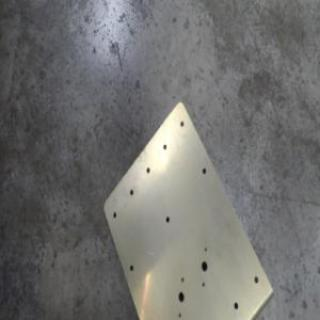MetalSheettrack_idkeyframe: (99, 96, 276, 319)
